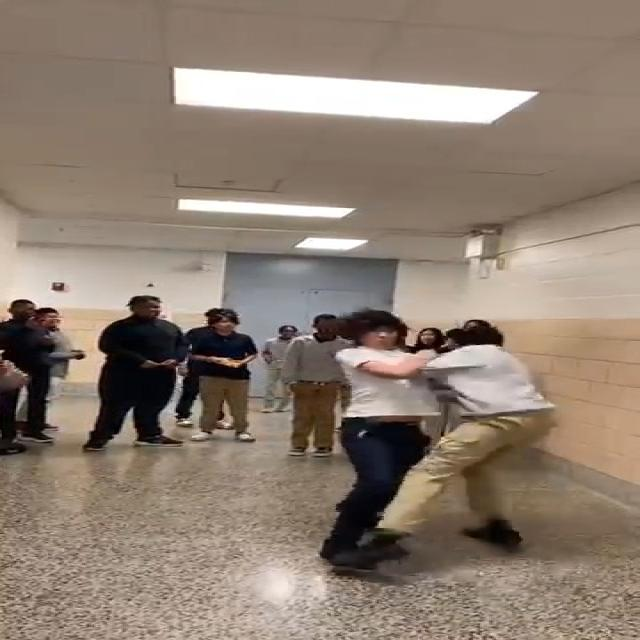fight: (315, 303, 547, 571)
